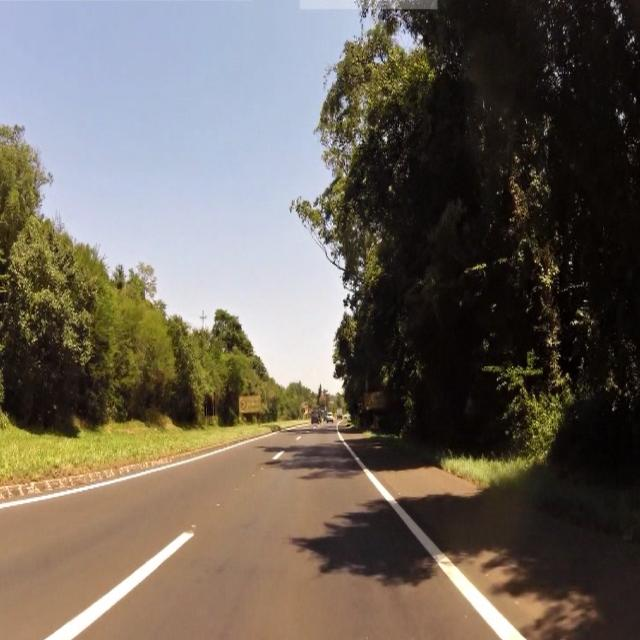R-43: (365, 392, 389, 409), (241, 395, 260, 413)
